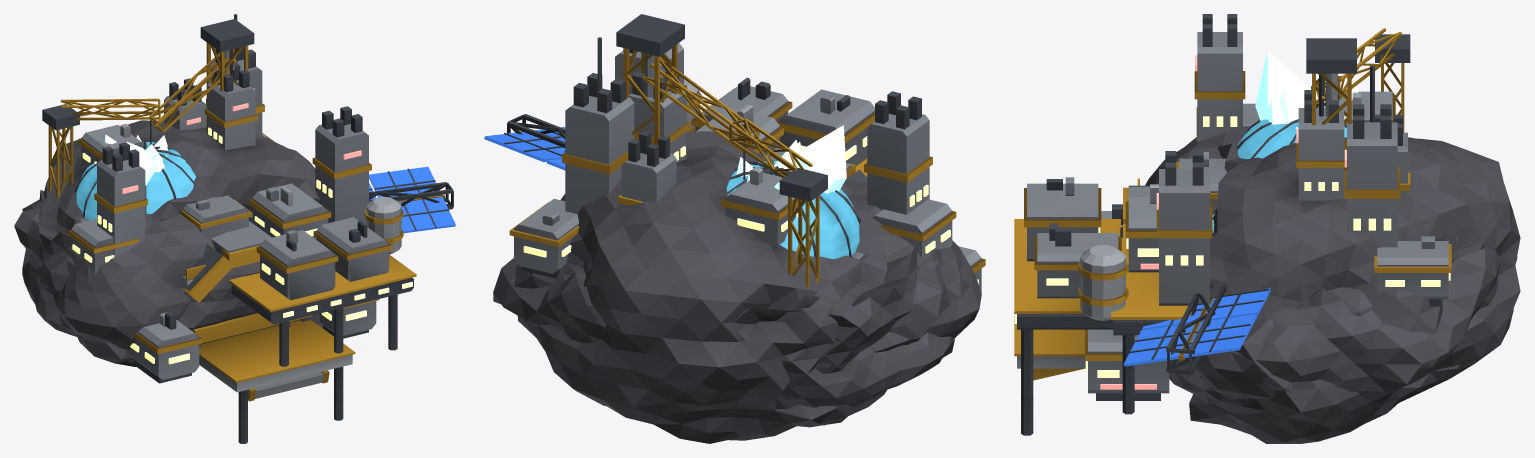
The model's file is rigs.glb.
3 renders of one model, left to right at view 1: azimuth 30°, elevation 25°; view 2: azimuth 150°, elevation 25°; view 3: azimuth 270°, elevation 25°, orthographic. The views are drawn at different scales.
Visible parts, largest first — view 1: rig_tunnel, rig_drill, rig_pit, rig_colony; view 2: rig_tunnel, rig_colony, rig_pit, rig_drill; view 3: rig_tunnel, rig_colony, rig_pit, rig_drill.
Part boxes in pixels (<box>): rig_tunnel: <box>22,49,379,443</box>; rig_drill: <box>37,19,371,362</box>; rig_pit: <box>22,98,416,366</box>; rig_colony: <box>14,14,455,266</box>; rig_tunnel: <box>514,69,985,443</box>; rig_colony: <box>484,37,932,427</box>; rig_pit: <box>509,77,956,408</box>; rig_drill: <box>615,14,981,352</box>; rig_tunnel: <box>1014,73,1520,443</box>; rig_colony: <box>1124,14,1500,404</box>; rig_pit: <box>1014,28,1495,413</box>; rig_drill: <box>1111,38,1424,414</box>.
Size of the model in its own units: 11.03 by 8.45 by 9.97.
